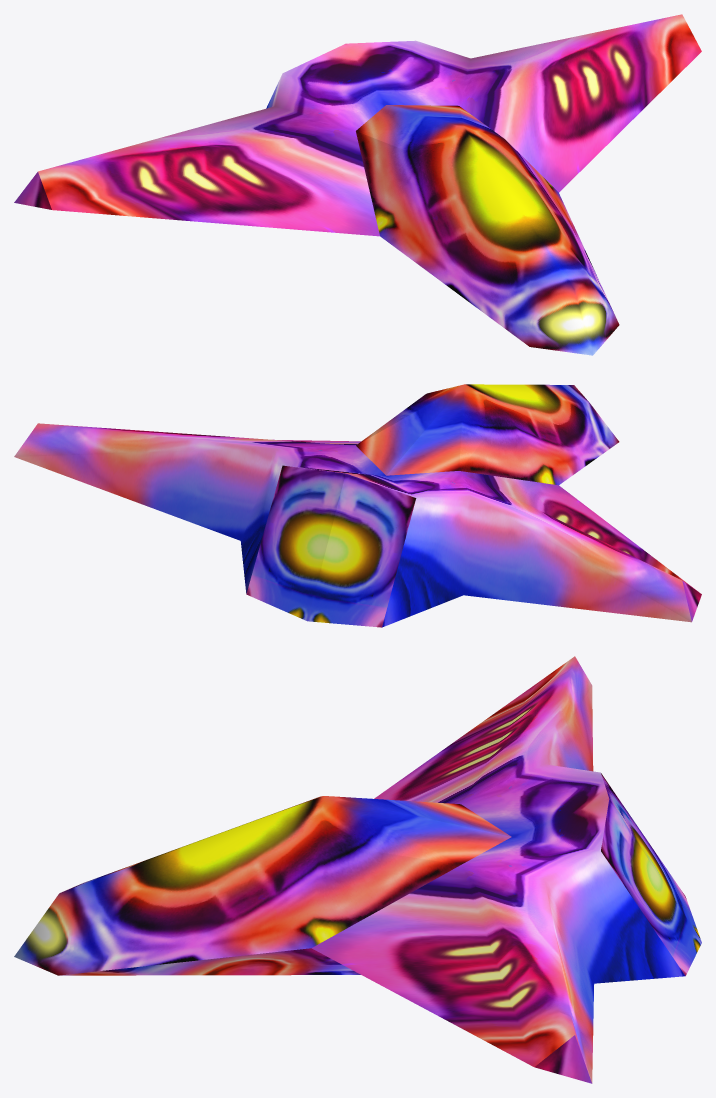
The model's file is ship-64.fbx.
The picture shows the model from 3 angles, top to bottom: view 1: azimuth 30°, elevation 25°; view 2: azimuth 150°, elevation 25°; view 3: azimuth 270°, elevation 25°; orthographic projection. The views are drawn at different scales.
Visible parts, largest first — view 1: ship-64; view 2: ship-64; view 3: ship-64.
Part boxes in pixels (x1=…): ship-64: x1=14, y1=14, x2=701, y2=355; ship-64: x1=14, y1=384, x2=701, y2=627; ship-64: x1=14, y1=656, x2=701, y2=1083.
Size of the model in its own units: 58.82 by 12.31 by 42.91.
